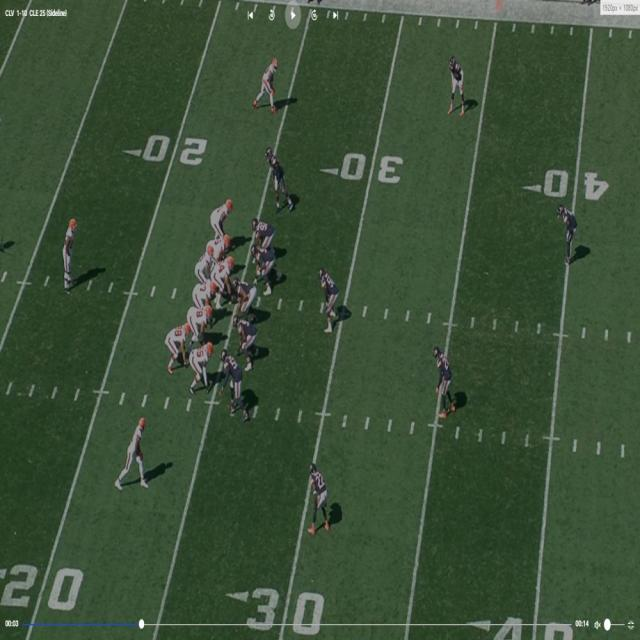center: (219, 255, 237, 311)
db: (310, 463, 334, 532), (436, 346, 458, 417), (557, 206, 577, 261), (449, 58, 467, 114)
lb: (221, 349, 246, 418), (268, 147, 291, 209), (320, 261, 340, 332)
qb: (196, 244, 212, 283)
skill: (122, 417, 146, 488), (191, 340, 213, 392), (256, 58, 278, 108), (169, 329, 187, 368), (63, 216, 75, 274)
